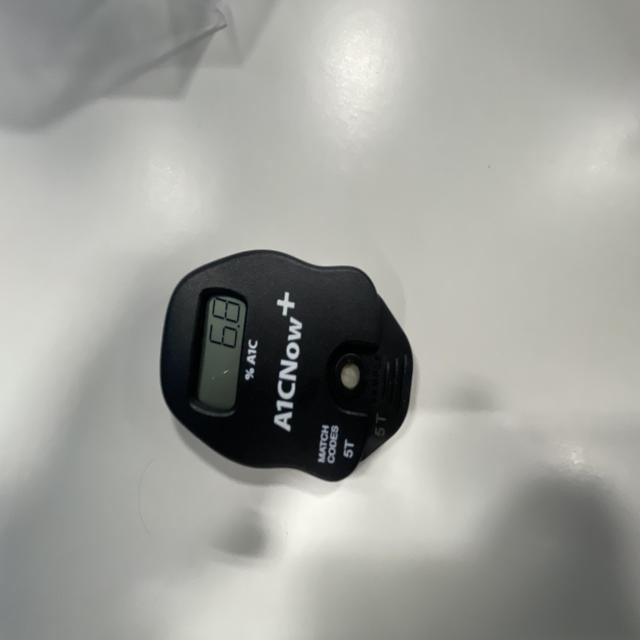hba1c: (159, 250, 417, 487)
